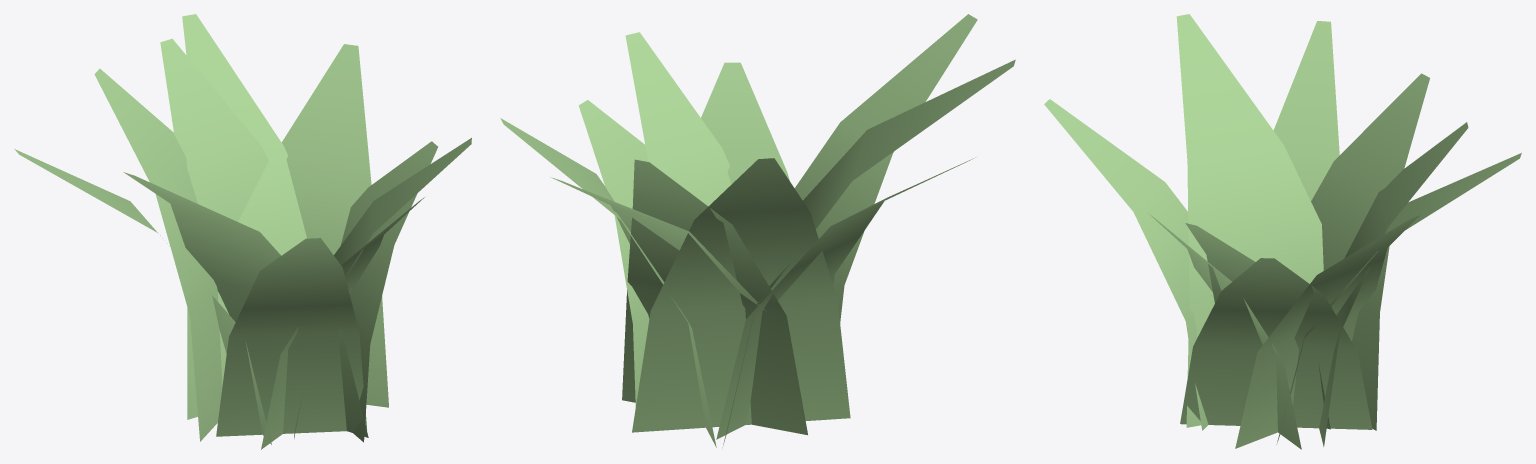
Rendered from grass_tuft_A.glb.
3 views of the same model, side by side, from view 1: azimuth 30°, elevation 25°; view 2: azimuth 150°, elevation 25°; view 3: azimuth 270°, elevation 25° (orthographic). The views are drawn at different scales.
Parts seen in each view (by area): view 1: grass_tuft_A; view 2: grass_tuft_A; view 3: grass_tuft_A.
Boxes of the visible parts, x1,y1,x2,y2 form: grass_tuft_A: (14, 14, 471, 449); grass_tuft_A: (500, 14, 1015, 447); grass_tuft_A: (1044, 14, 1521, 449).
Bounding box in the file's own units: 0.3582 × 0.2852 × 0.408.
